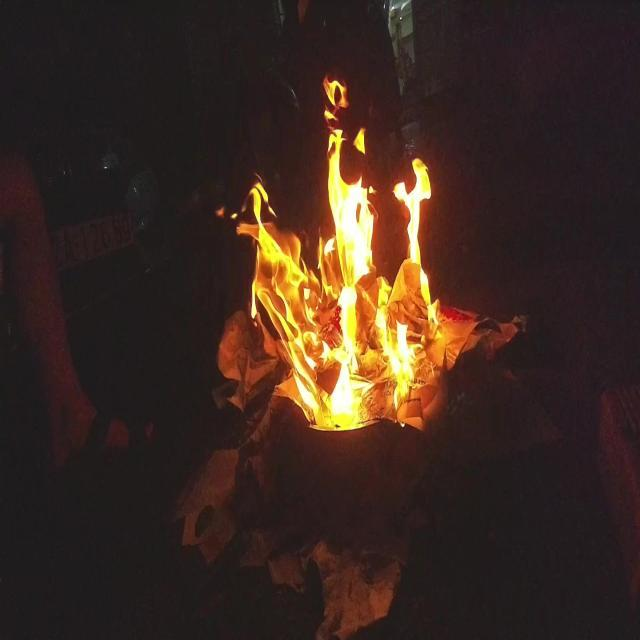Fire: (204, 73, 444, 430)
